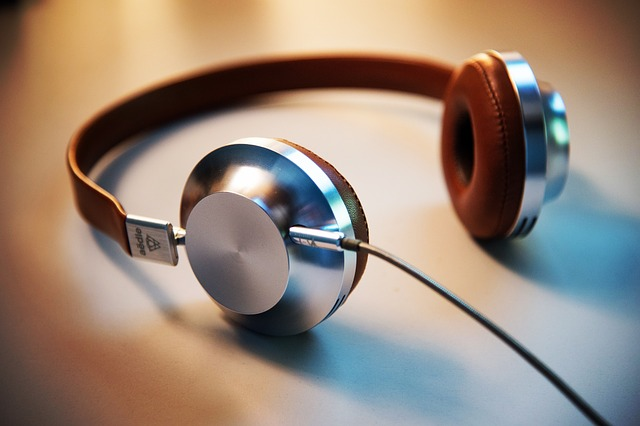headphones: (66, 49, 570, 339)
